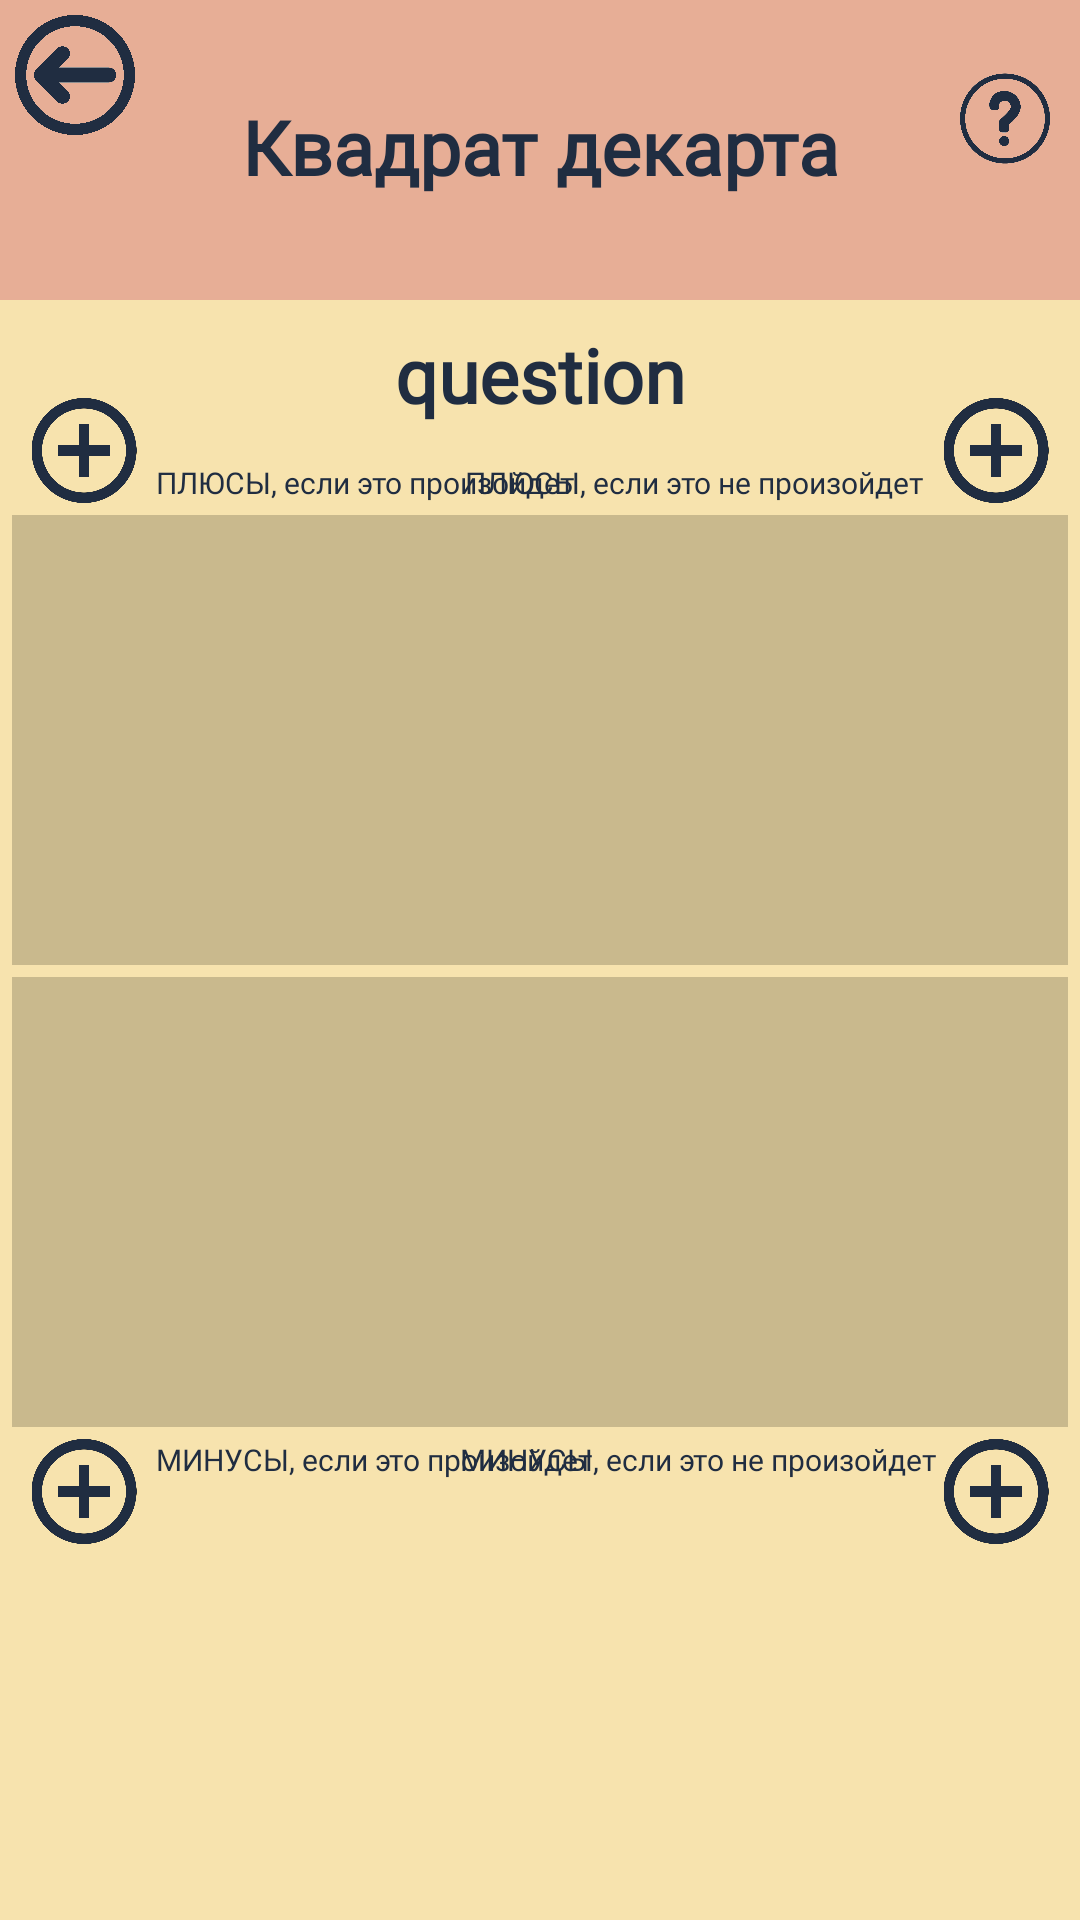

Screen size 1080px x 1920px. Icon name, then its center in pixels as [x,y]:
addbutton: [84,450], [996,450], [84,1491], [996,1491]
backbutton: [75,75]
